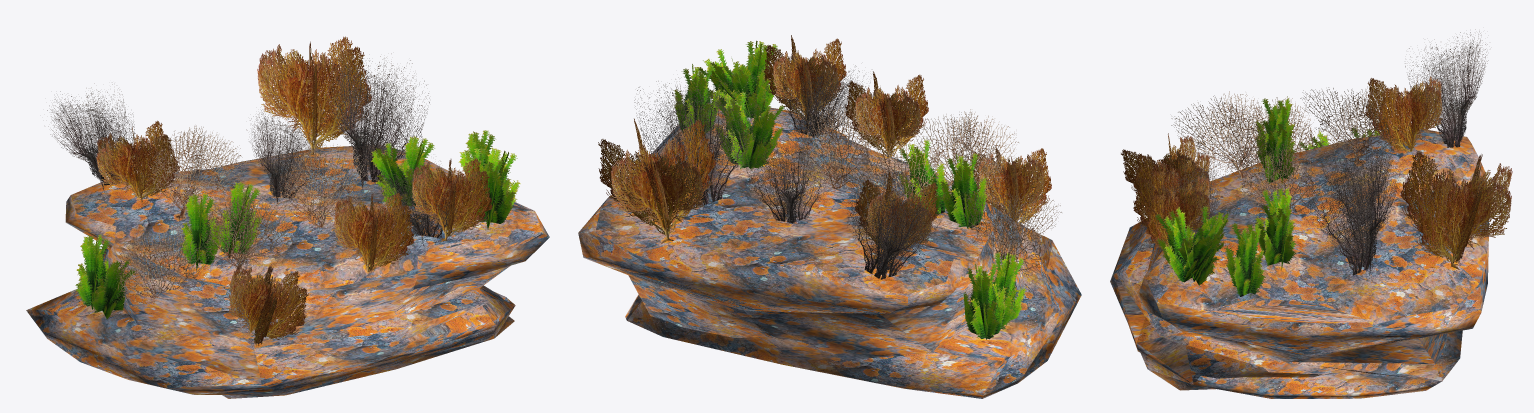
Rendered from ReefBase01.dae.
3 views of the same model, side by side, from view 1: azimuth 30°, elevation 25°; view 2: azimuth 150°, elevation 25°; view 3: azimuth 270°, elevation 25° (orthographic). The views are drawn at different scales.
Visible parts, largest first — view 1: ReefBaseOne256, ReefBaseOne512; view 2: ReefBaseOne512, ReefBaseOne256; view 3: ReefBaseOne512, ReefBaseOne256.
Part boxes in pixels (box(x1,y1,x2,y2)): ReefBaseOne256: box(47, 36, 533, 395); ReefBaseOne512: box(26, 120, 549, 398); ReefBaseOne512: box(578, 40, 1081, 398); ReefBaseOne256: box(598, 35, 1061, 360); ReefBaseOne512: box(1110, 77, 1489, 398); ReefBaseOne256: box(1117, 29, 1512, 384).
Size of what is drawn, in the model's own units: 22.34 by 18.73 by 12.56.
